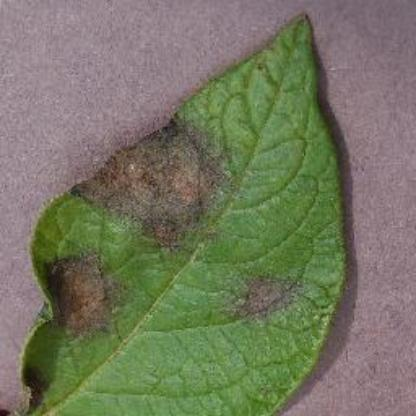Late-Blight: (1, 8, 387, 416)
